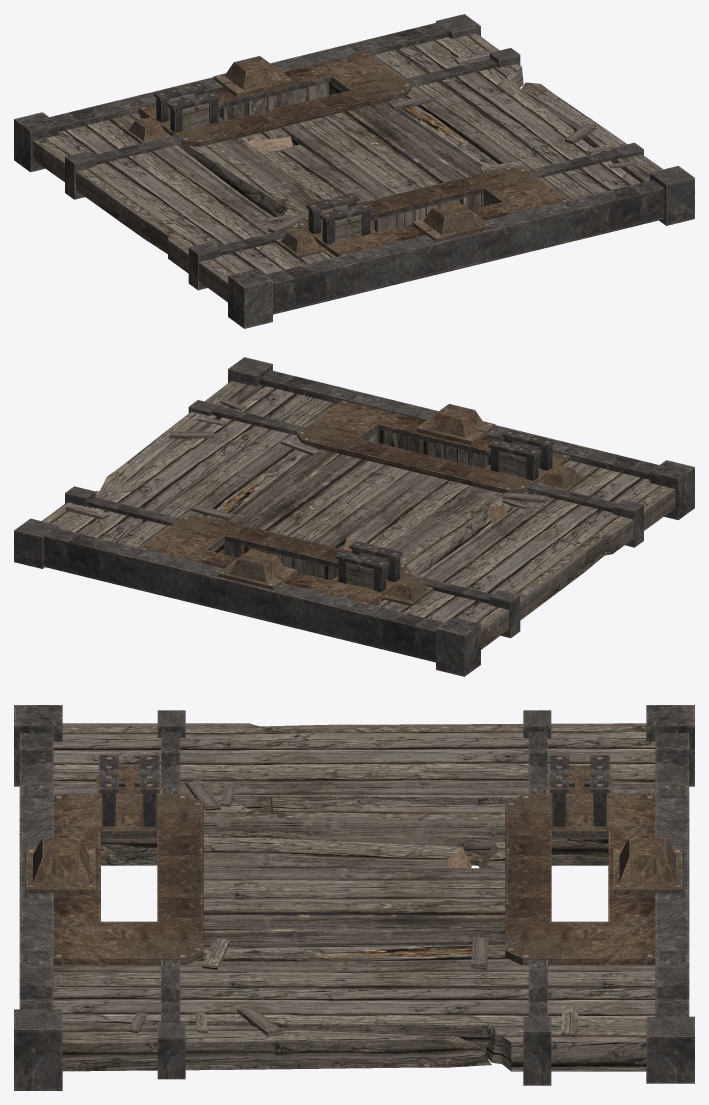
File: bg_lut_lutomb_ev01b_sm_old.FBX
The picture shows the model from 3 angles, top to bottom: view 1: azimuth 30°, elevation 25°; view 2: azimuth 150°, elevation 25°; view 3: azimuth 270°, elevation 25°; orthographic projection. The views are drawn at different scales.
Visible parts, largest first — view 1: bg_lut_lutomb_ev01b_sm_old; view 2: bg_lut_lutomb_ev01b_sm_old; view 3: bg_lut_lutomb_ev01b_sm_old.
Boxes of the visible parts, bbox=[...] form: bg_lut_lutomb_ev01b_sm_old: bbox=[14, 14, 694, 328]; bg_lut_lutomb_ev01b_sm_old: bbox=[14, 357, 694, 676]; bg_lut_lutomb_ev01b_sm_old: bbox=[14, 705, 694, 1090].
Bounding box in the file's own units: 355 × 46.27 × 314.
